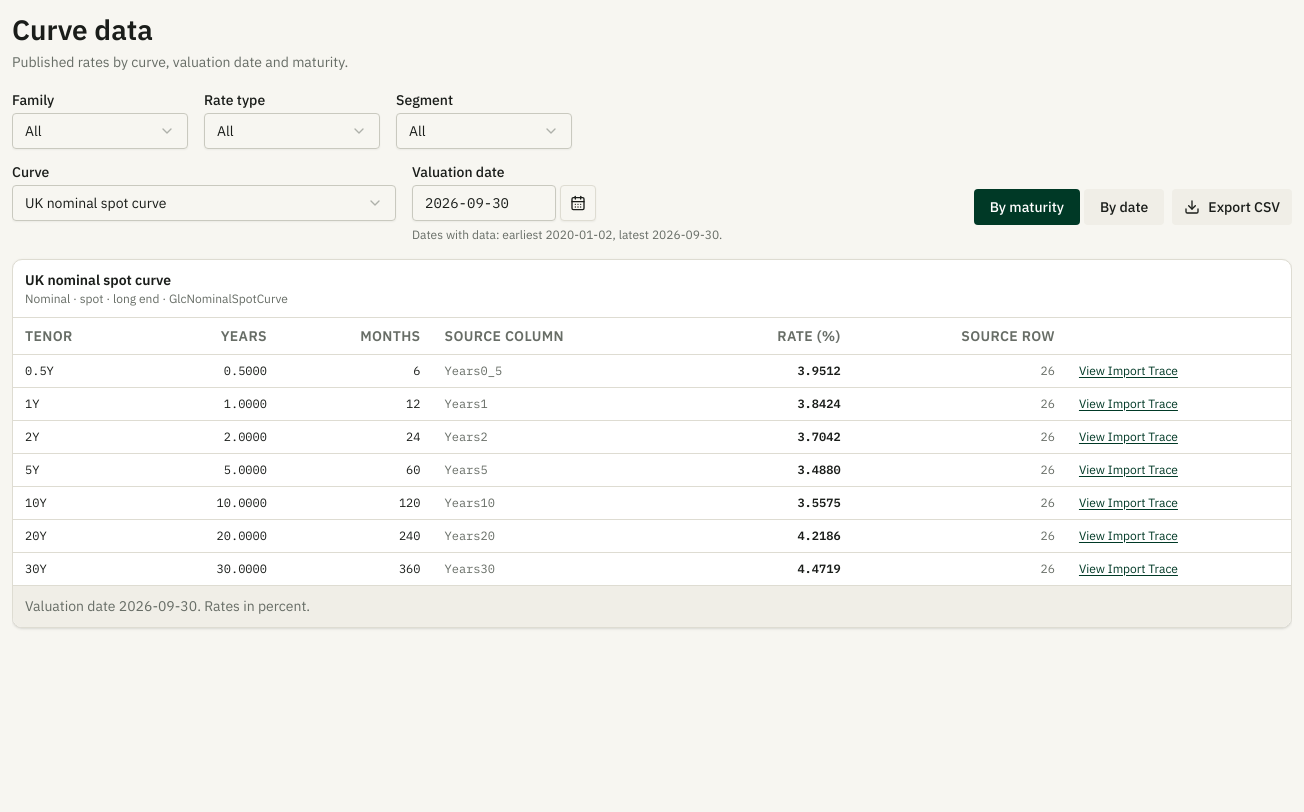
Test: Epic curve-data, Story 2: Curve catalogue filters › says no curve matches and offers to clear the filters when nothing matches
This screenshot has width=1304, height=812.
expect the row "10Y 10.0000 120 Years10 3.5575 26 View Import Trace" is shown: met, box [13,486,1291,519]
Click the dropdown named "Family": (100, 131) [12,113,188,149]
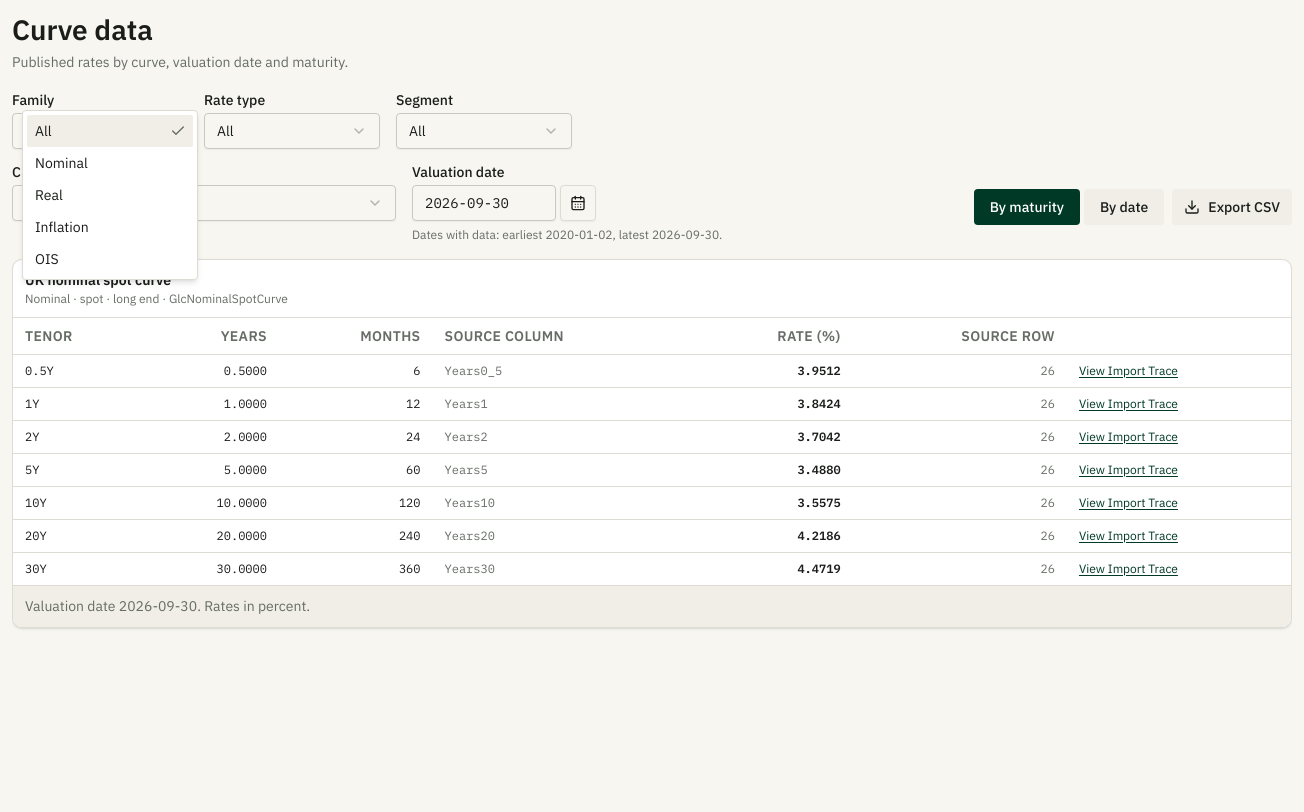
Click the option "OIS": (47, 259) [35,250,59,268]
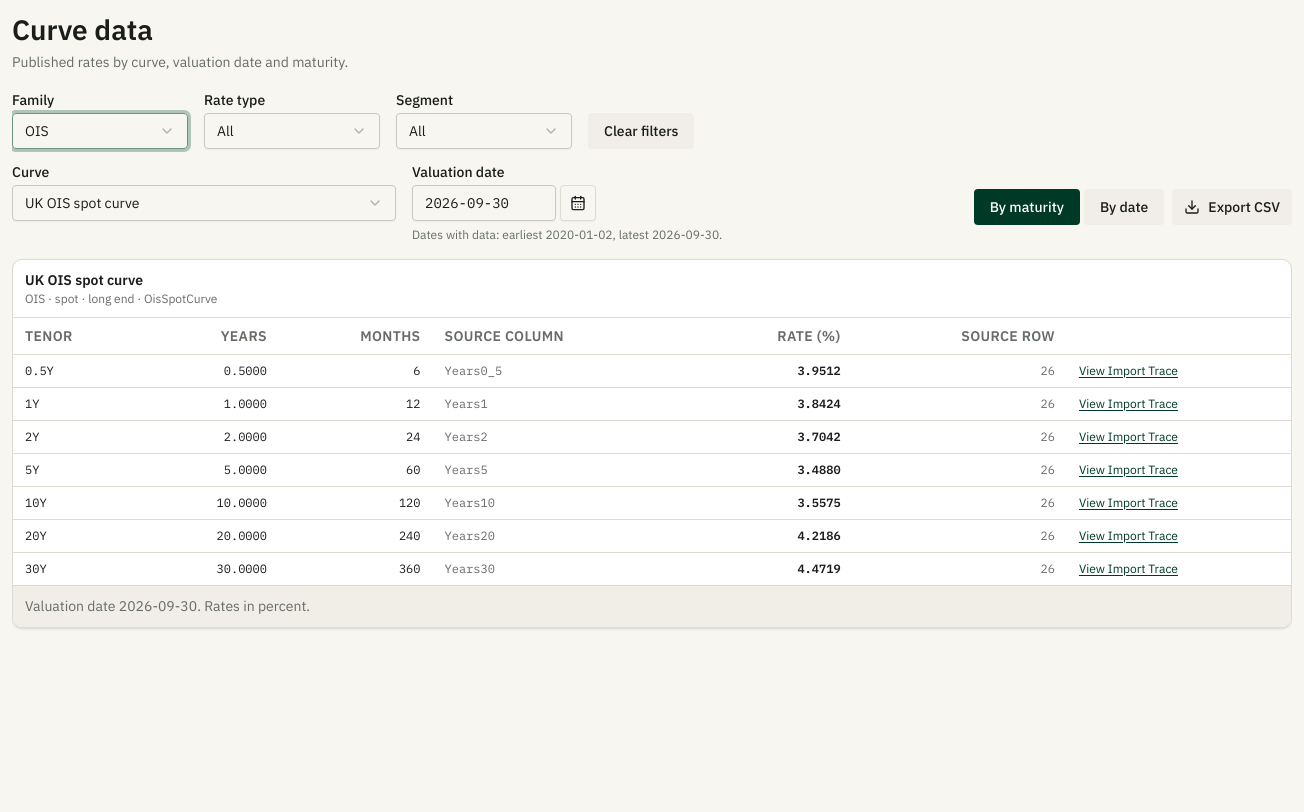
Click the dropdown named "Rate type": (292, 131) [204,113,380,149]
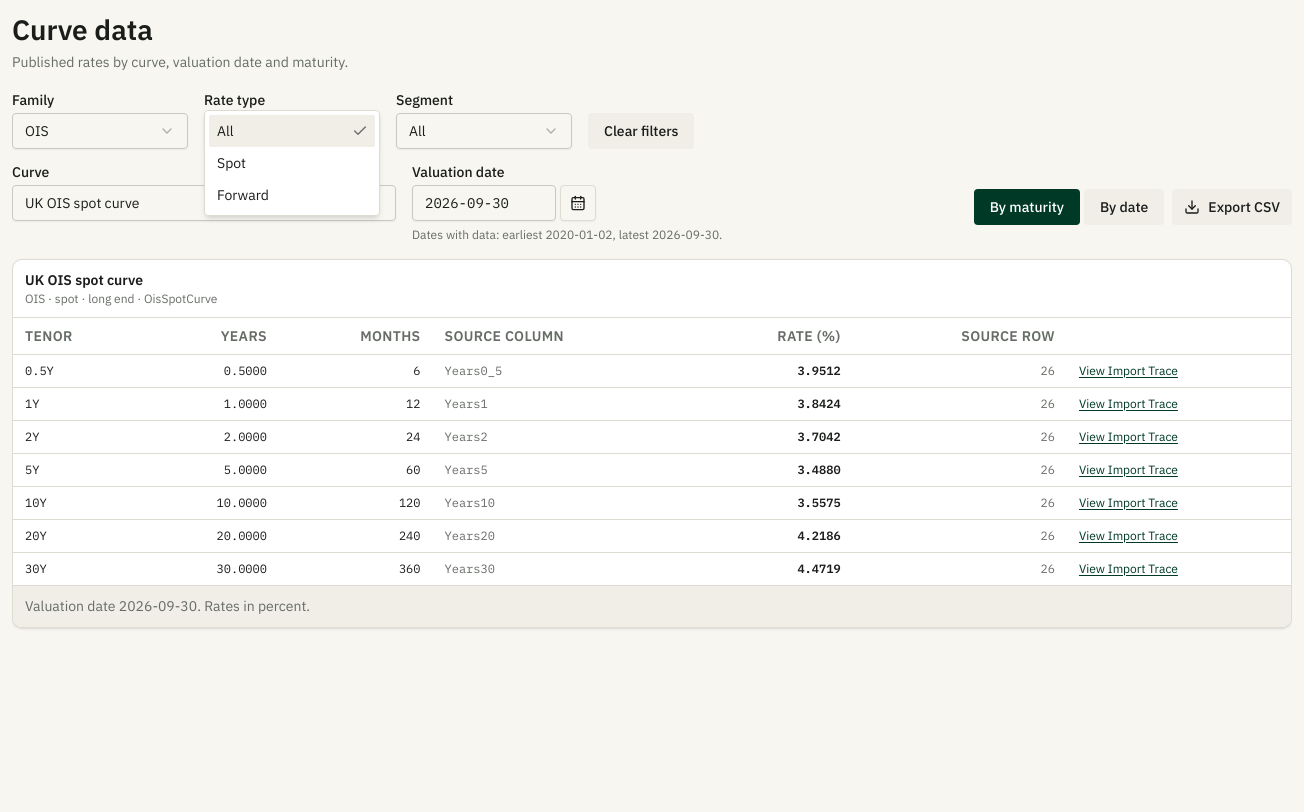
Click the option "Forward": (243, 195) [217,186,269,204]
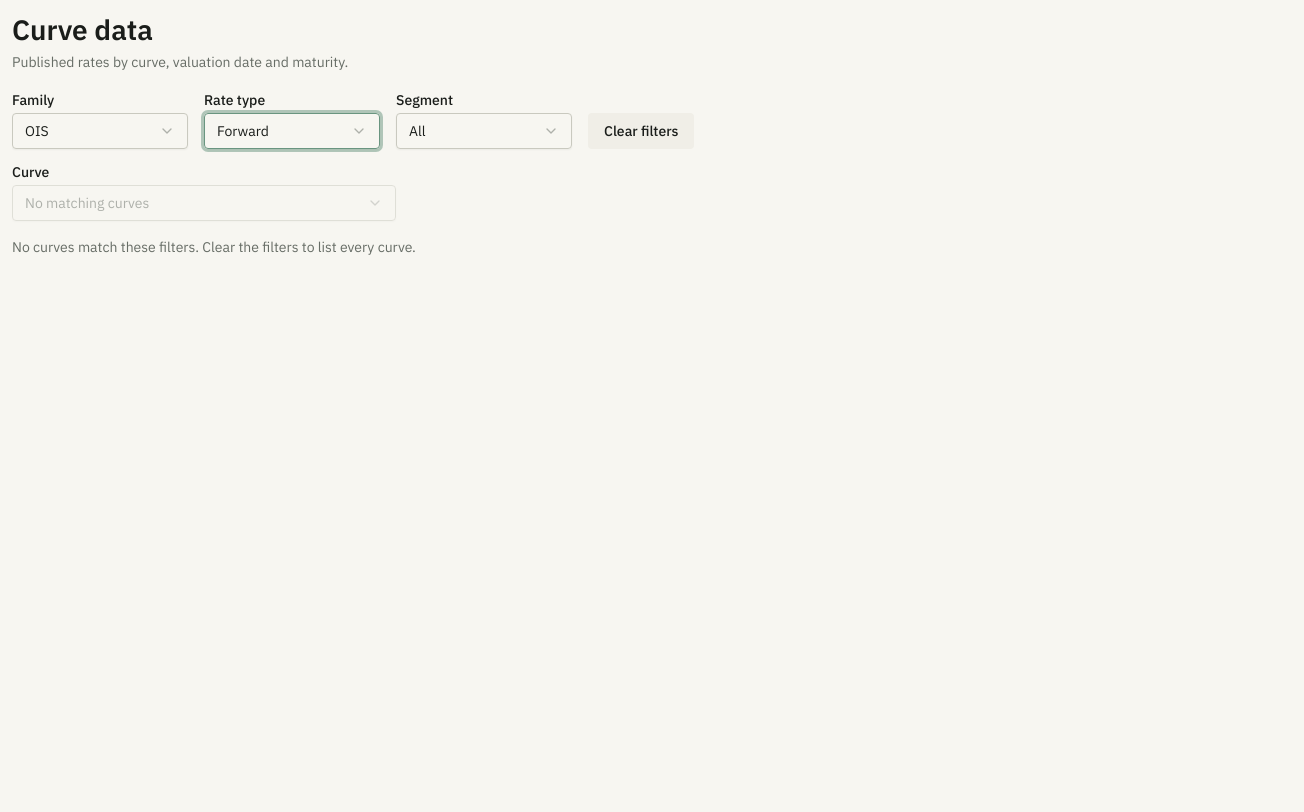
expect the text "No curves match these filters. Clear the filters to list every curve." is shown: met, box [12,238,416,256]
Click the button "Clear filters": (641, 131) [588,113,694,149]
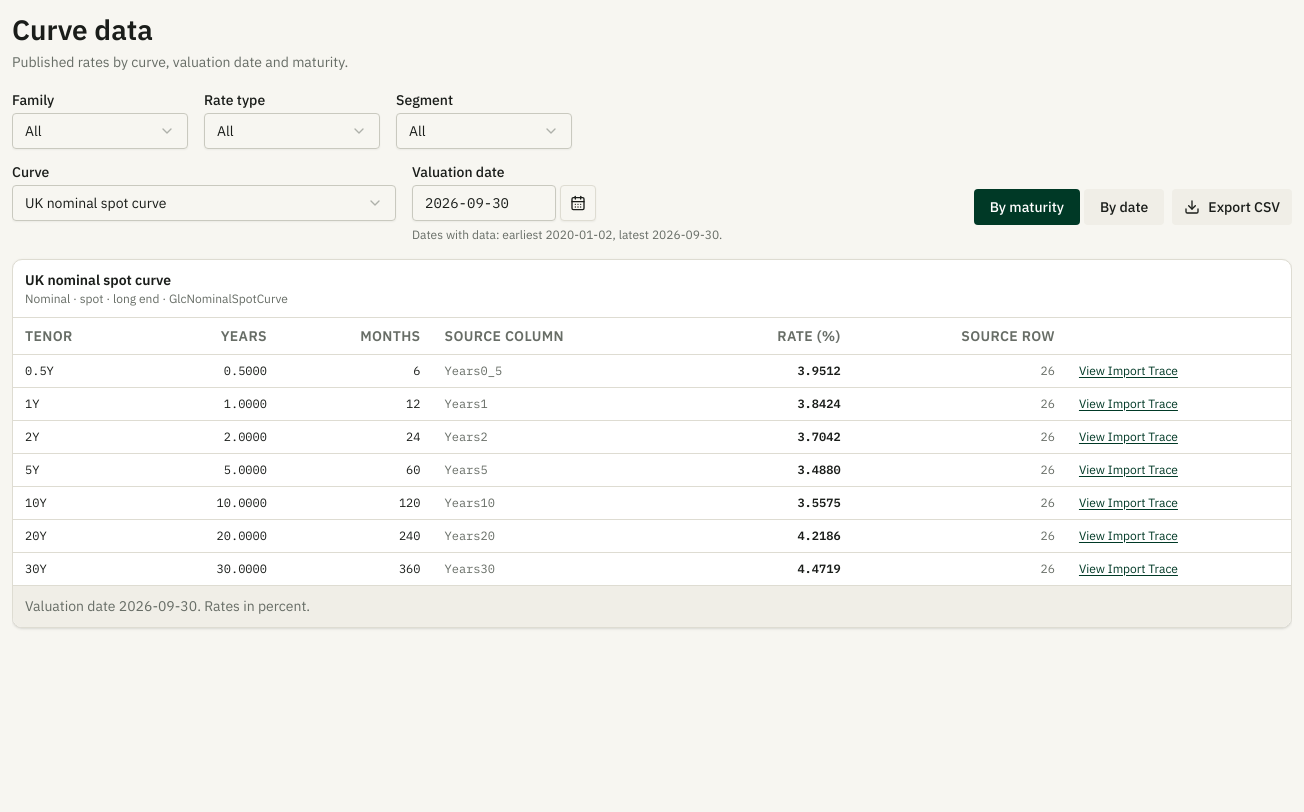
expect the text "No curves match" is gone: met
expect the dropdown named "Family" reads "All": met, box [12,113,188,149]
expect the dropdown named "Rate type" reads "All": met, box [204,113,380,149]
